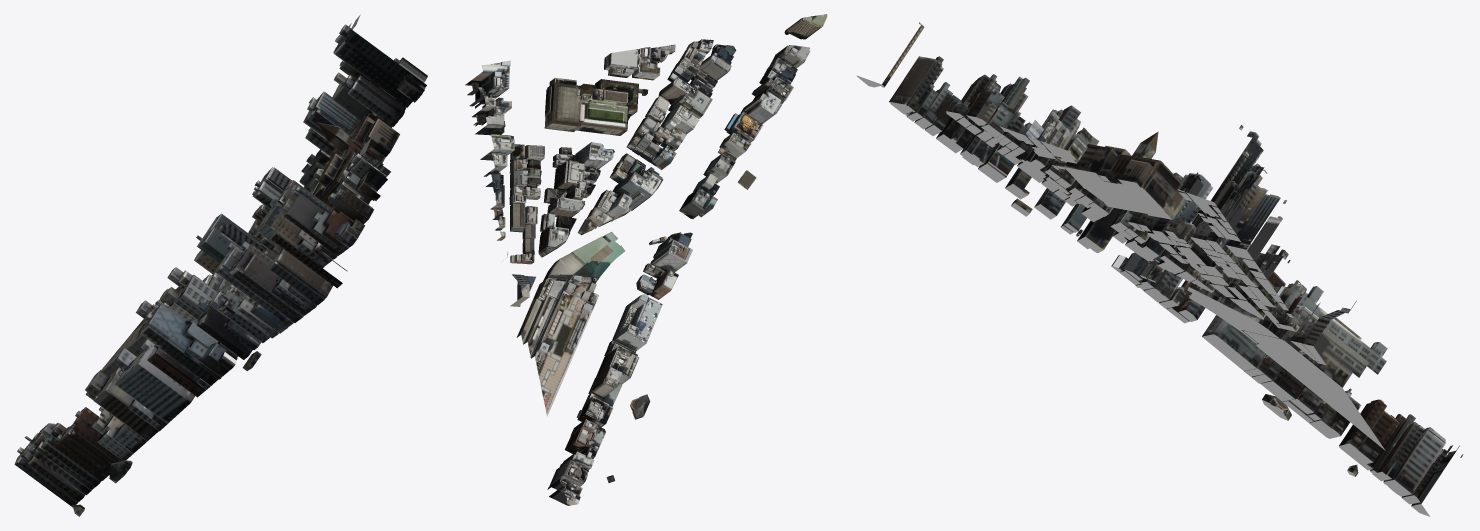
Rendered from 19765_bldg_Building.glb.
3 views of the same model, side by side, from view 1: azimuth 30°, elevation 25°; view 2: azimuth 150°, elevation 25°; view 3: azimuth 270°, elevation 25° (orthographic). The views are drawn at different scales.
Size of the model in its own units: 186 by 275 by 324.
3 materials, 2 textured.
